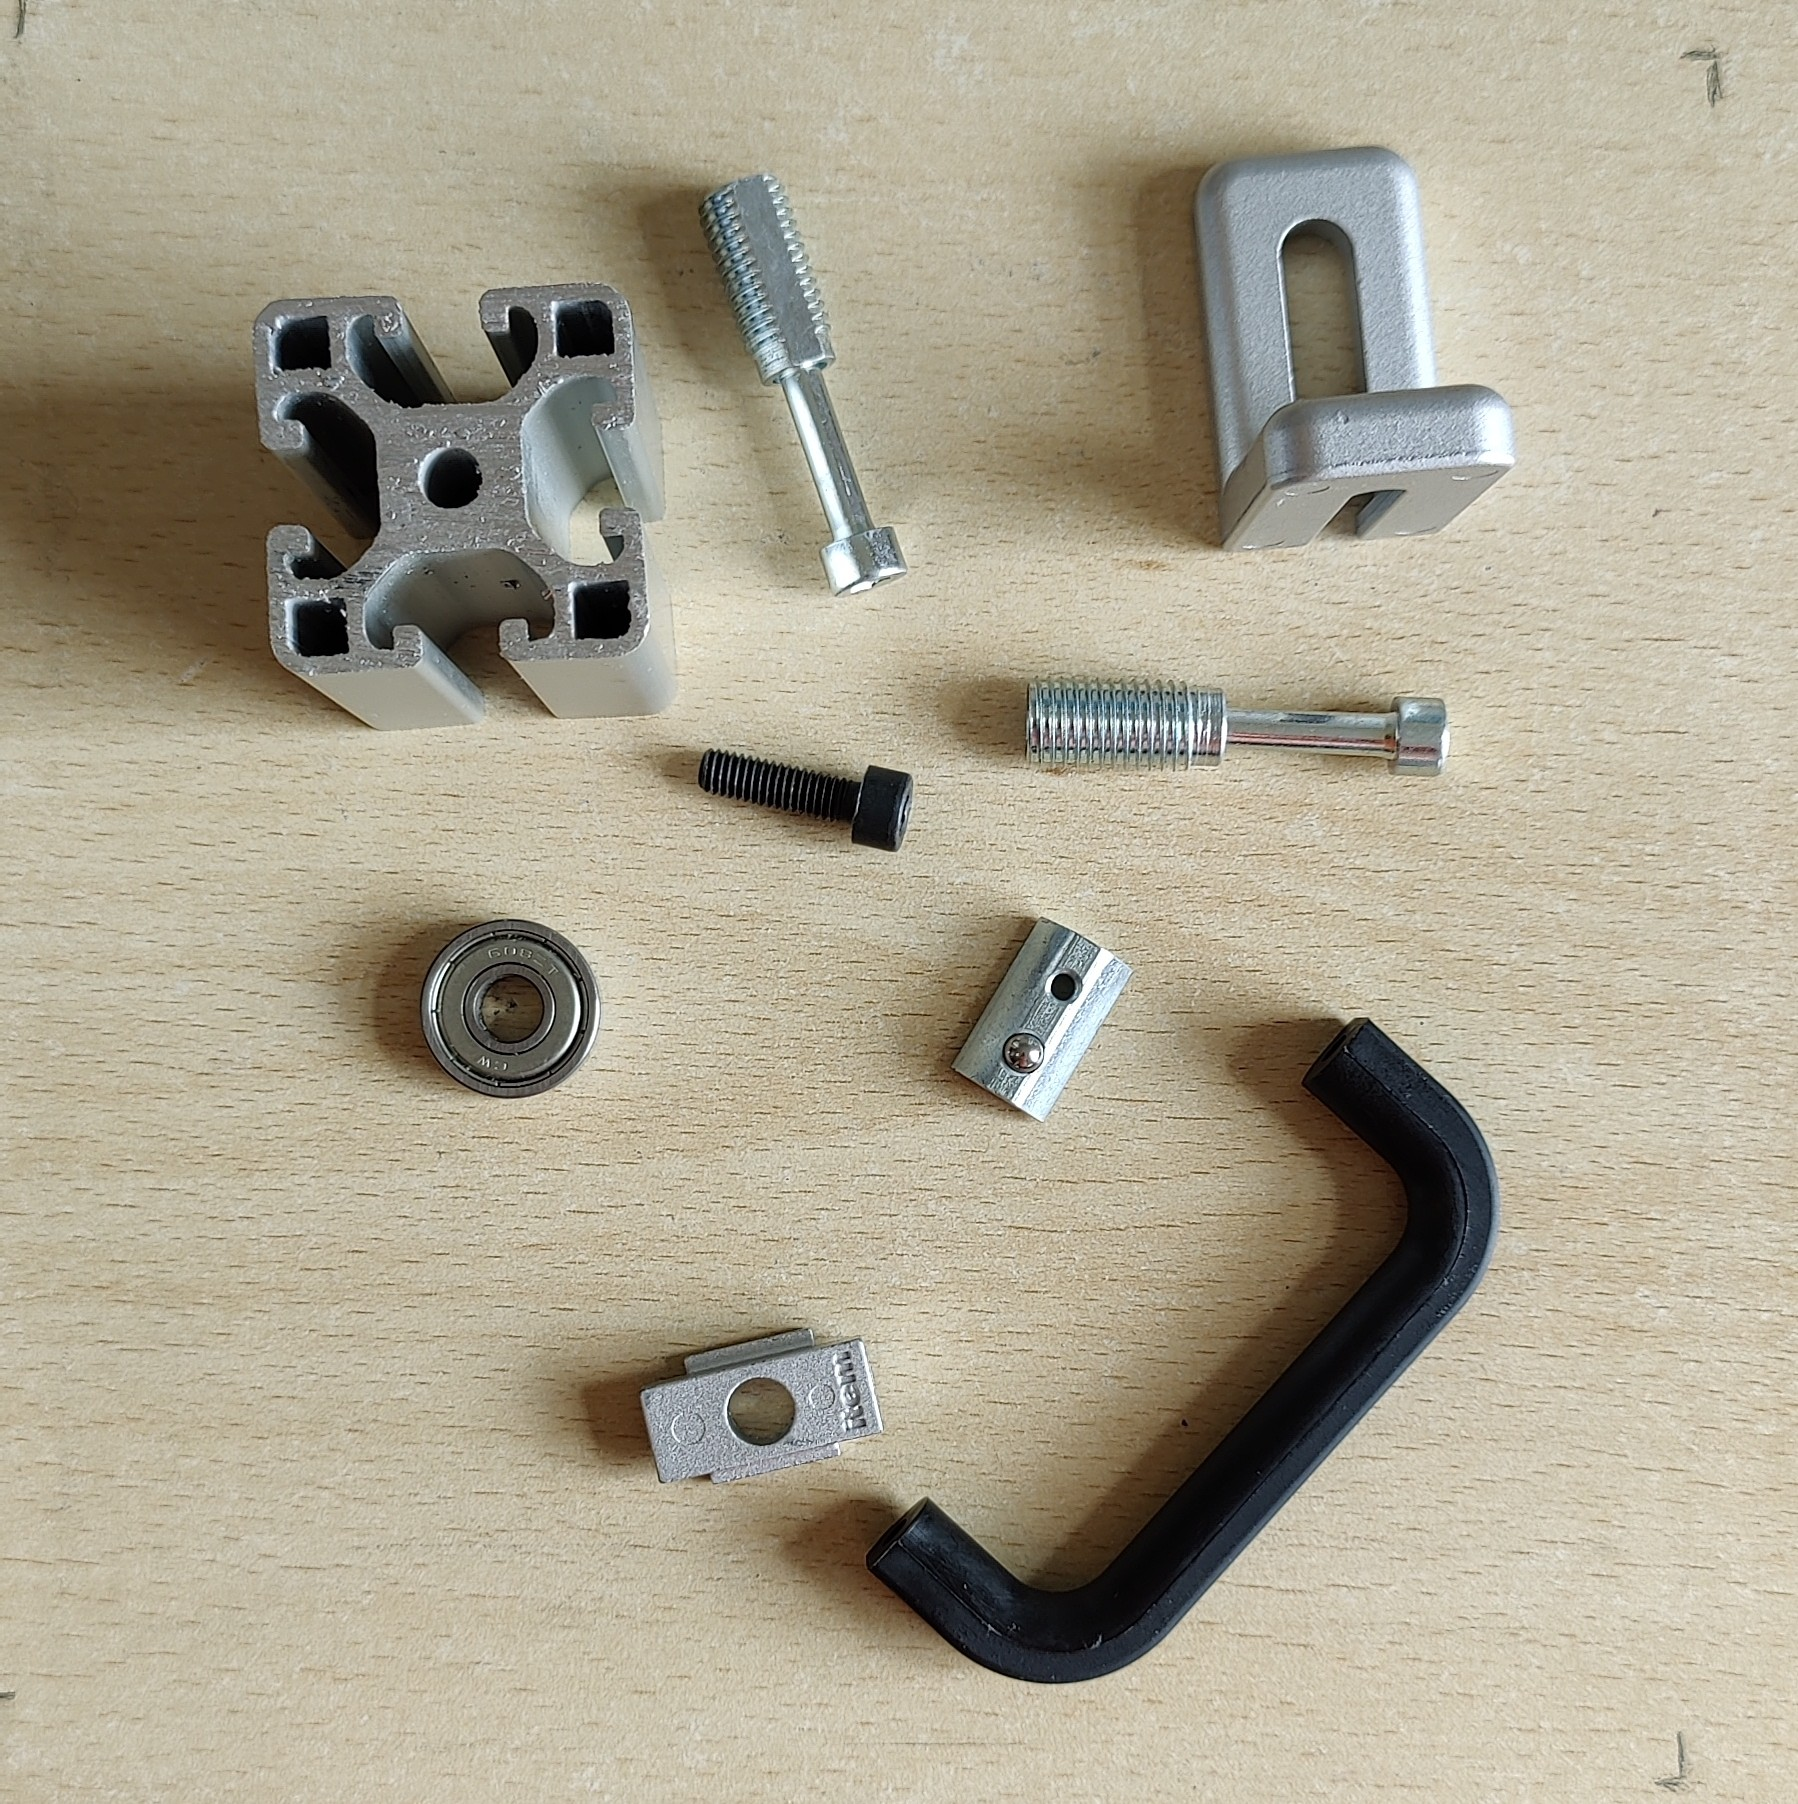Aluminium Extension: (250, 280, 680, 736)
Ball Bearing: (417, 917, 603, 1100)
Multiwinkel: (1189, 146, 1520, 556)
Pull Handle: (863, 1016, 1500, 1685)
Shoulder Socket Head Cap Screw: (696, 170, 911, 601), (1019, 670, 1451, 780)
Socket Head Cap Screw: (693, 741, 917, 854)
T Nut Square: (636, 1323, 881, 1486)
T Spring Nut: (947, 915, 1136, 1126)
